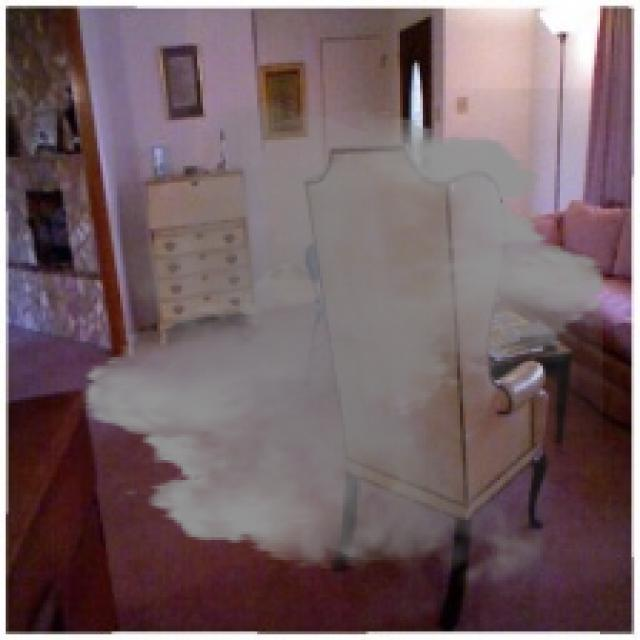Smoke: (66, 88, 623, 603)
